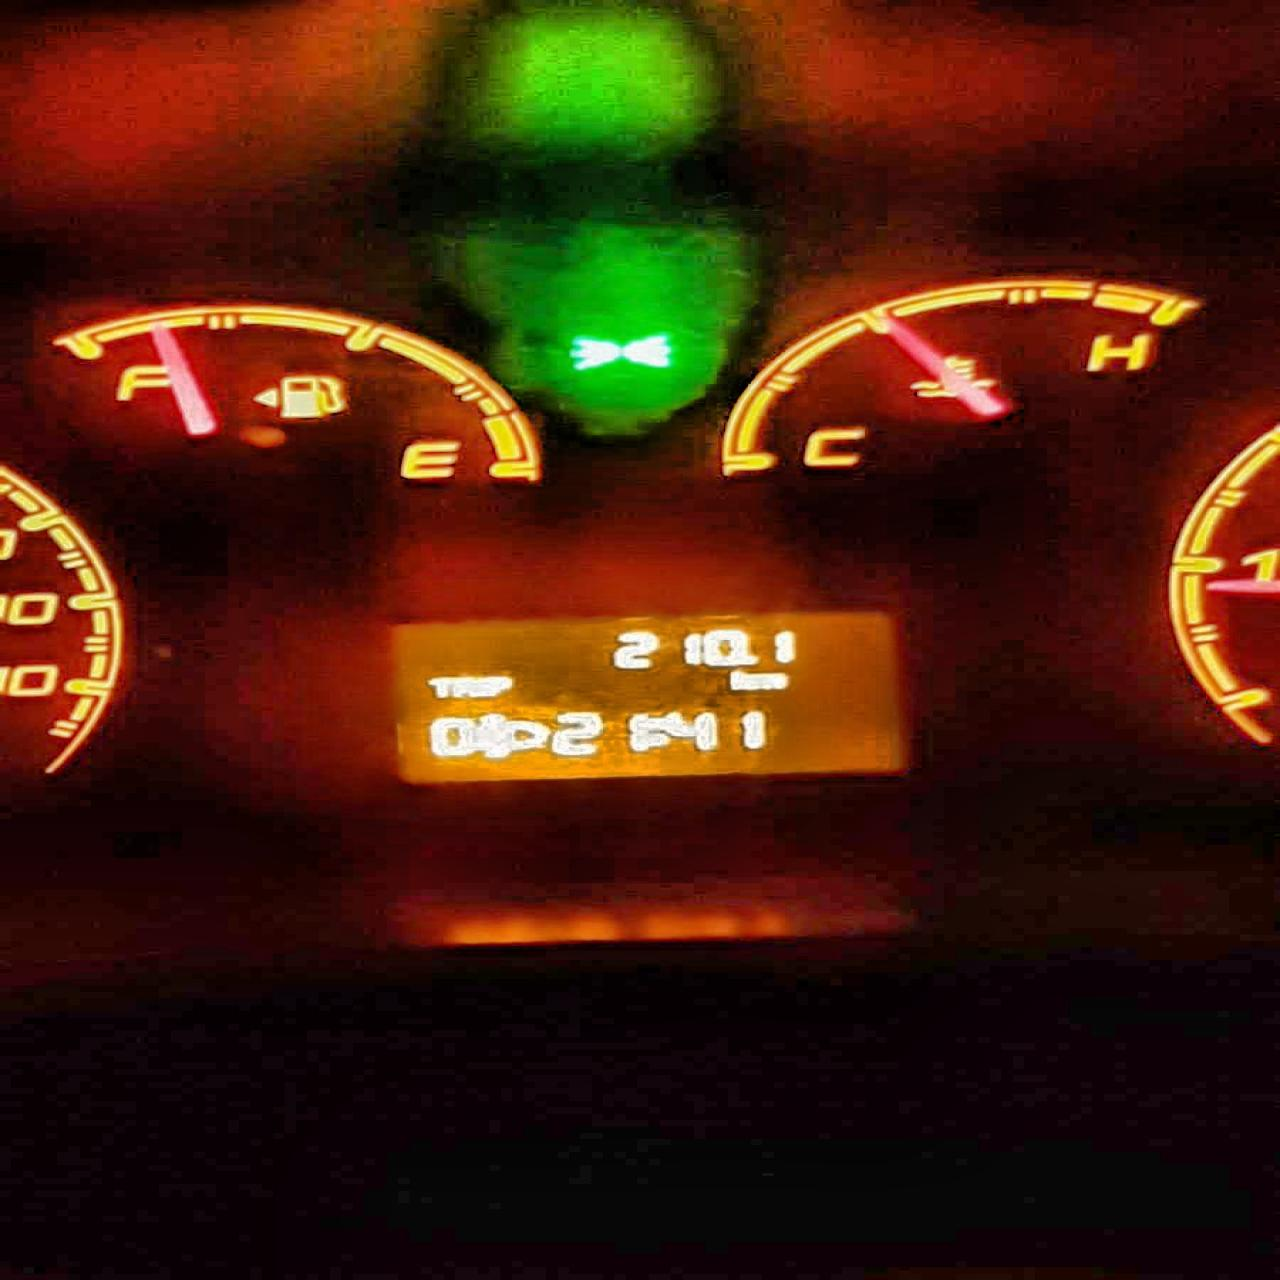-: (741, 654, 762, 665)
0: (425, 715, 478, 757), (701, 627, 748, 667)
1: (737, 708, 768, 749), (769, 628, 799, 665), (626, 712, 651, 754), (680, 632, 704, 665)
2: (549, 710, 602, 756), (608, 628, 659, 670)
4: (661, 709, 720, 753)
X: (749, 670, 790, 692), (488, 674, 512, 697), (425, 676, 452, 697), (730, 669, 751, 692), (452, 676, 474, 697), (652, 714, 660, 749), (475, 675, 485, 699)
odometer: (380, 608, 913, 789)
